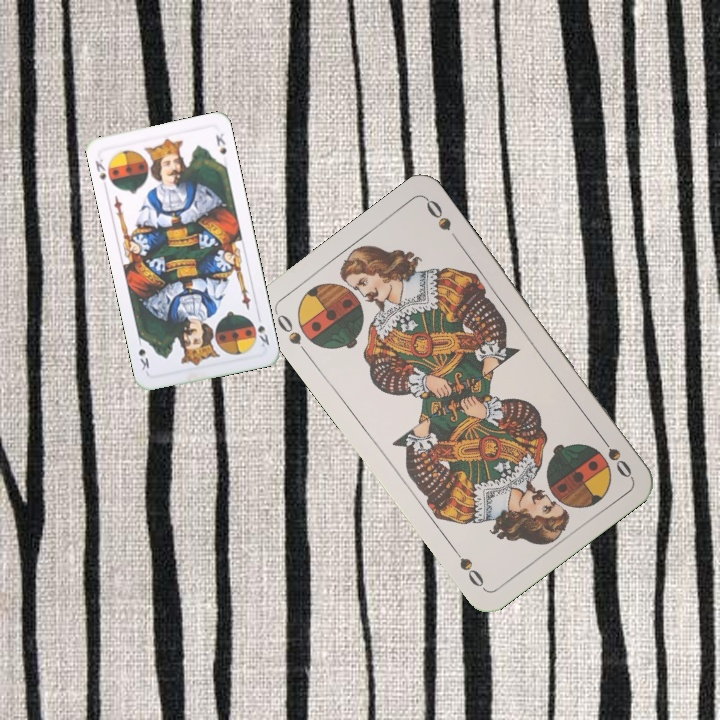SK: (254, 321, 272, 350), (91, 155, 109, 183)
SO: (594, 429, 635, 481), (271, 308, 312, 359)
